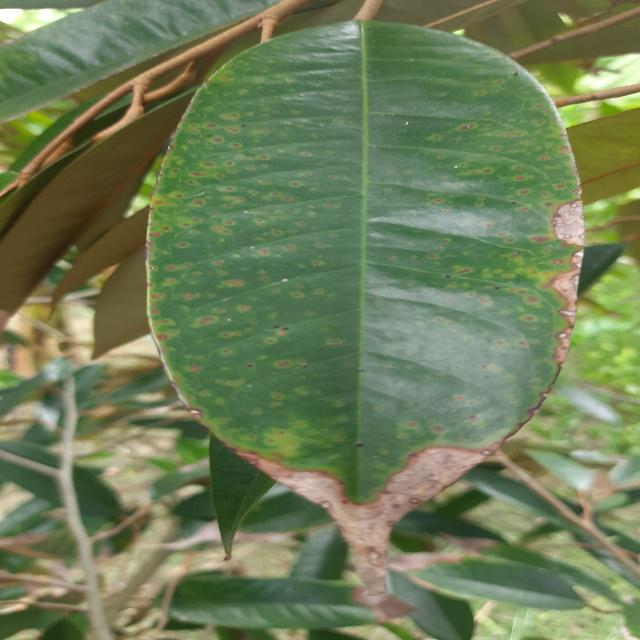Leaf Spot: (143, 9, 593, 613)
